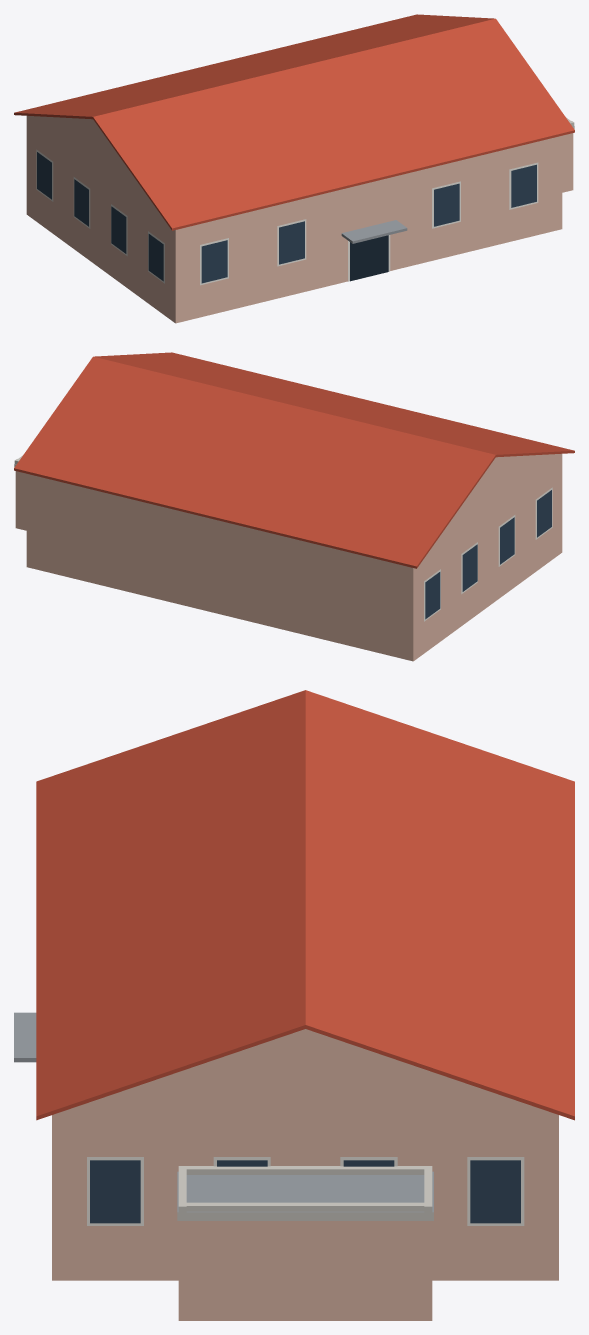
File: salle_fetes.glb
3 views of the same model, one above another, from view 1: azimuth 30°, elevation 25°; view 2: azimuth 150°, elevation 25°; view 3: azimuth 270°, elevation 25° (orthographic). The views are drawn at different scales.
Parts seen in each view (by area): view 1: salle_fetes; view 2: salle_fetes; view 3: salle_fetes.
Boxes of the visible parts, x1=… form: salle_fetes: x1=14, y1=14, x2=574, y2=323; salle_fetes: x1=14, y1=352, x2=574, y2=661; salle_fetes: x1=14, y1=690, x2=574, y2=1320.
Bounding box in the file's own units: 27.55 × 9.14 × 17.7.
Materials: 1 (1 with a texture image).
